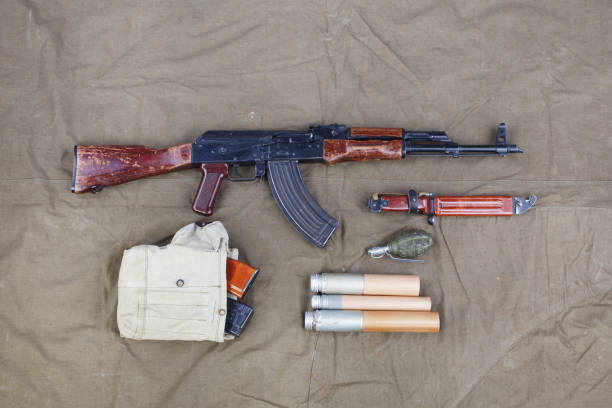e1: (369, 231, 437, 263)
